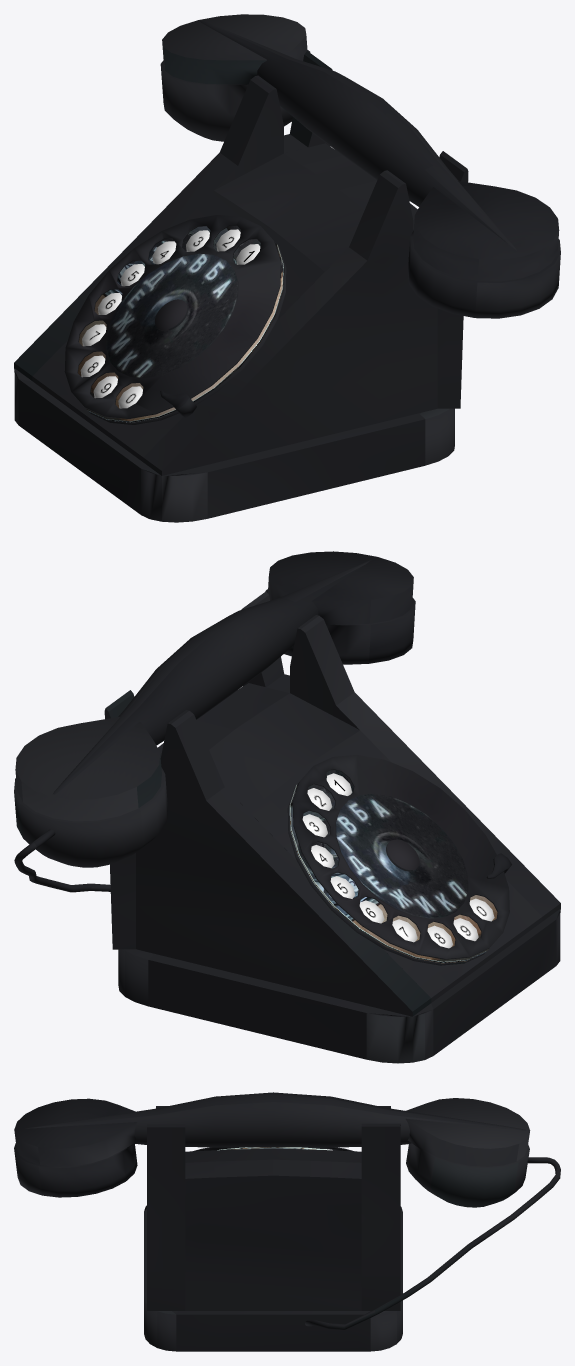
The model's file is vefta_bagta_50_telefonas.glb.
3 views of the same model, one above another, from view 1: azimuth 30°, elevation 25°; view 2: azimuth 150°, elevation 25°; view 3: azimuth 270°, elevation 25° (orthographic). The views are drawn at different scales.
Parts seen in each view (by area): view 1: Cylinder.004; view 2: Cylinder.004; view 3: Cylinder.004.
Part boxes in pixels (x1=…): Cylinder.004: x1=14, y1=14, x2=560, y2=522; Cylinder.004: x1=14, y1=551, x2=560, y2=1063; Cylinder.004: x1=14, y1=1092, x2=560, y2=1351.
Bounding box in the file's own units: 2.69 × 2.09 × 4.22.
Materials: 3 (3 with a texture image).
